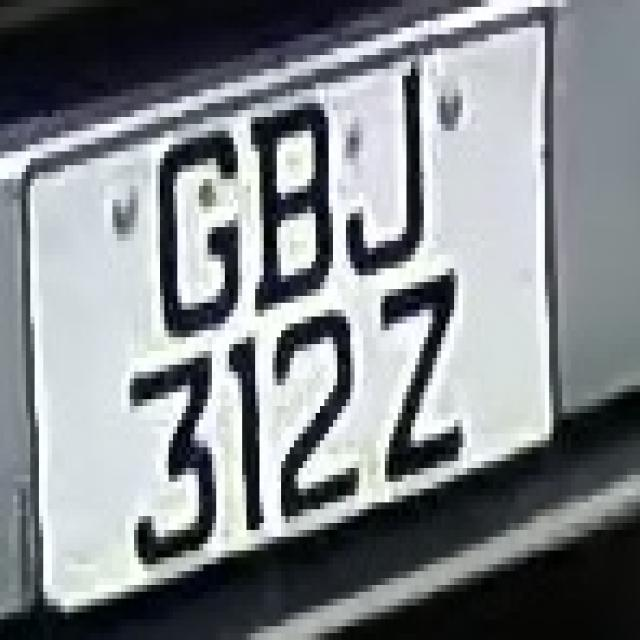1: (225, 316, 277, 544)
2: (272, 296, 368, 537)
3: (117, 344, 216, 585)
B: (234, 90, 342, 323)
G: (147, 103, 247, 351)
J: (337, 62, 441, 282)
Z: (368, 262, 472, 509)
